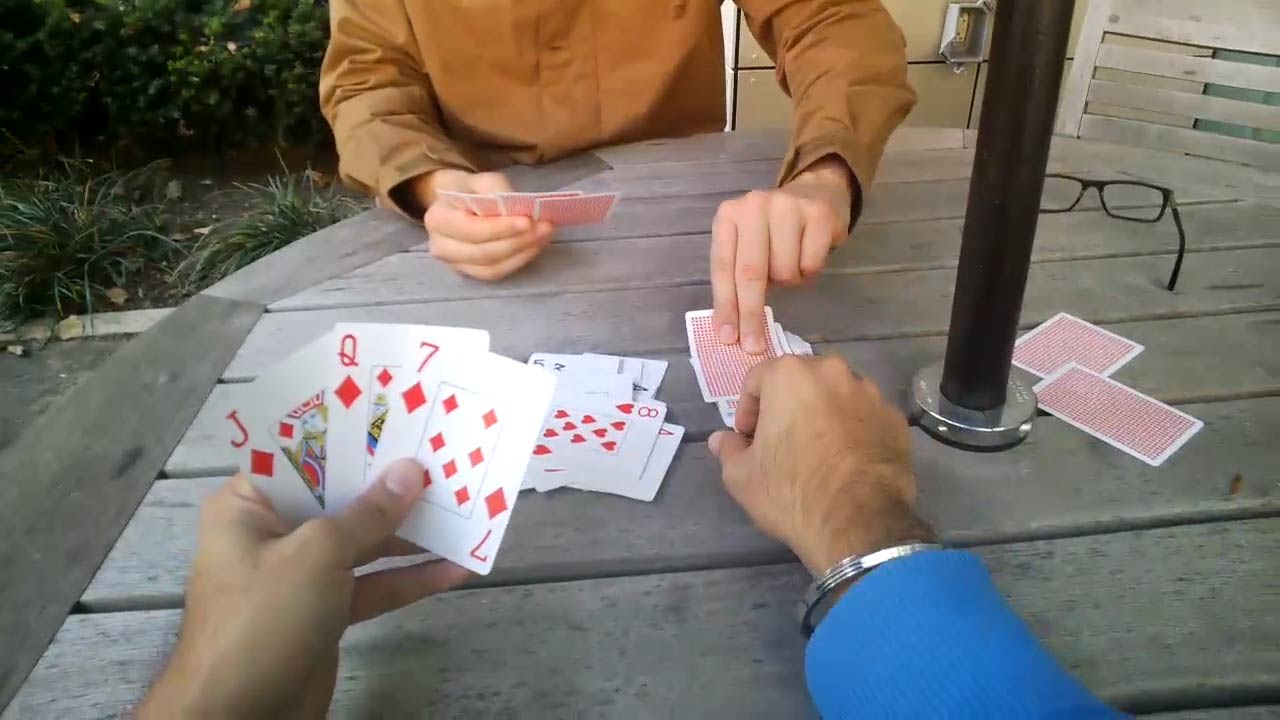hand: (139, 455, 473, 718), (704, 353, 932, 570), (713, 189, 855, 355), (421, 167, 552, 278)
